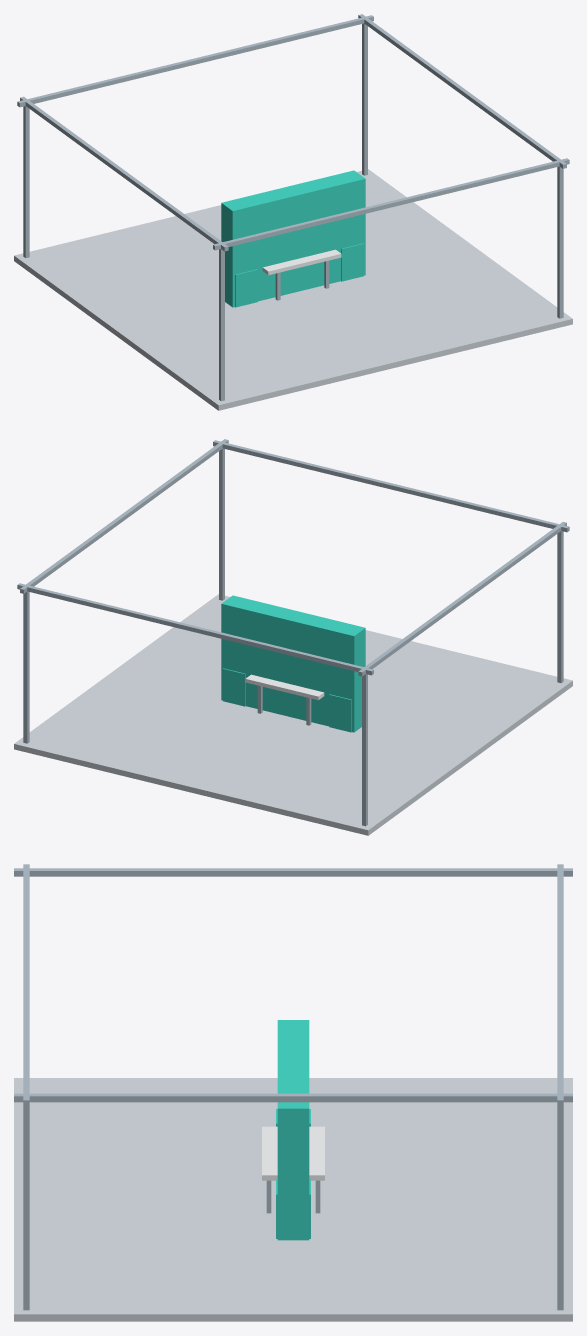
The picture shows the model from 3 angles, top to bottom: view 1: azimuth 30°, elevation 25°; view 2: azimuth 150°, elevation 25°; view 3: azimuth 270°, elevation 25°; orthographic projection. The views are drawn at different scales.
Visible parts, largest first — view 1: Exhibition Booth Concept; view 2: Exhibition Booth Concept; view 3: Exhibition Booth Concept.
Part boxes in pixels (left/top/right/bottom): Exhibition Booth Concept: left=14, top=14, right=572, bottom=410; Exhibition Booth Concept: left=14, top=439, right=572, bottom=835; Exhibition Booth Concept: left=14, top=864, right=572, bottom=1321.
Size of the model in its own units: 8 by 3.49 by 8.
